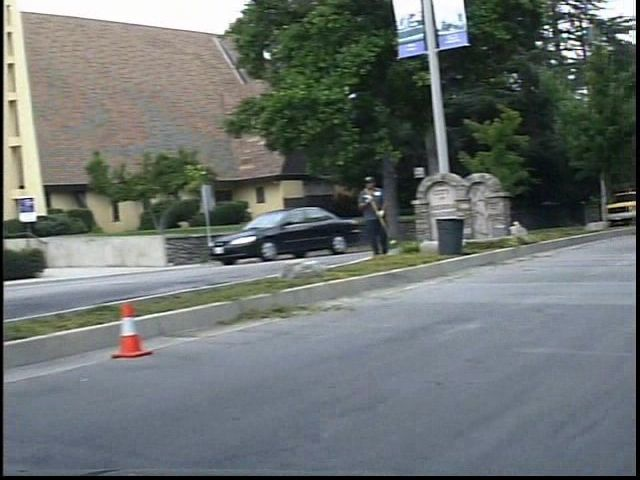person: (367, 173, 406, 263)
